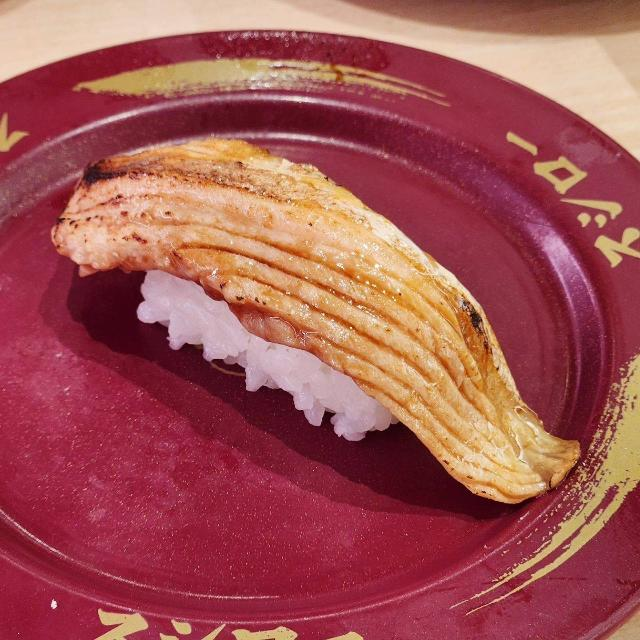janred: (0, 32, 640, 620)
